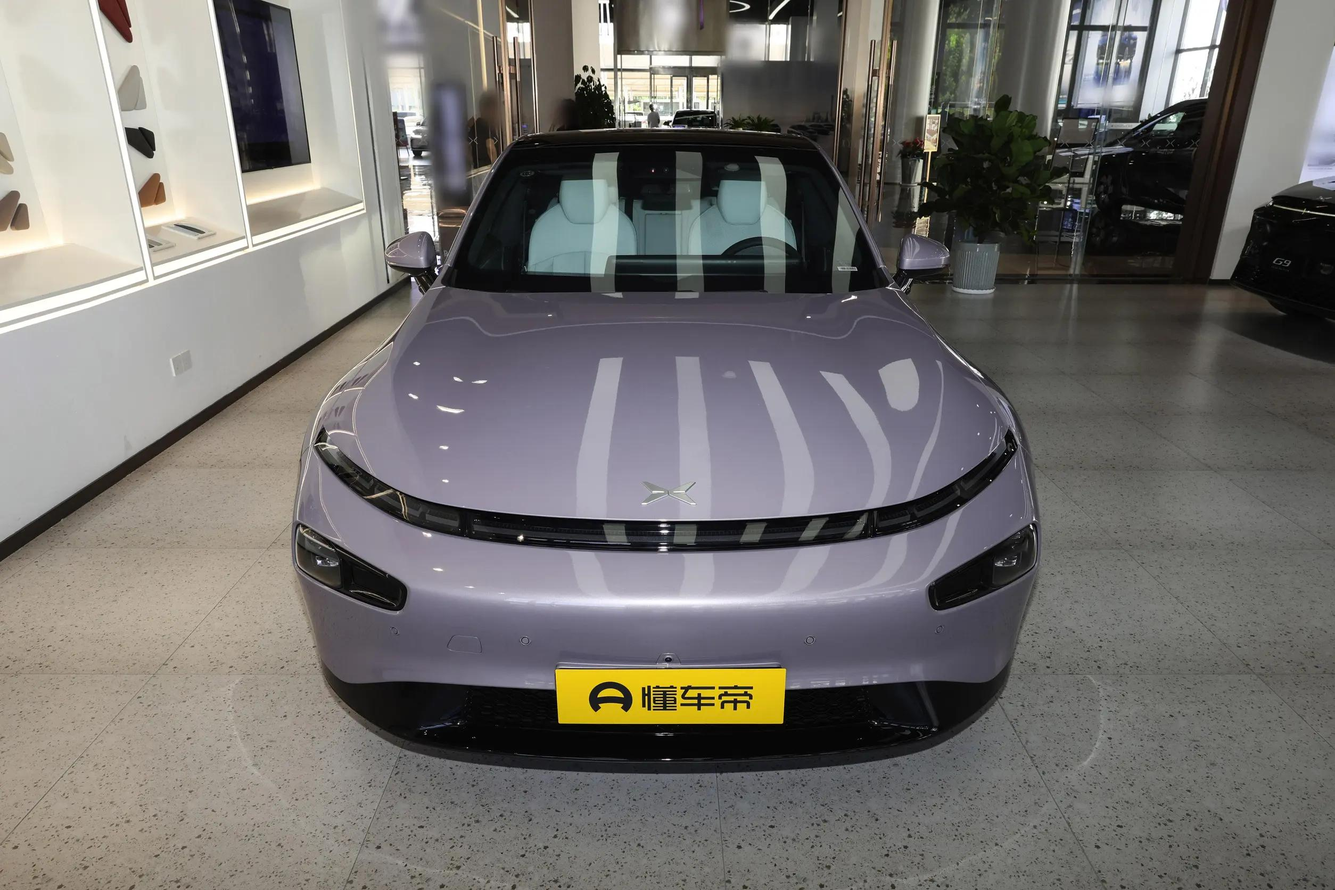XPeng Motors: (640, 481, 696, 505)
